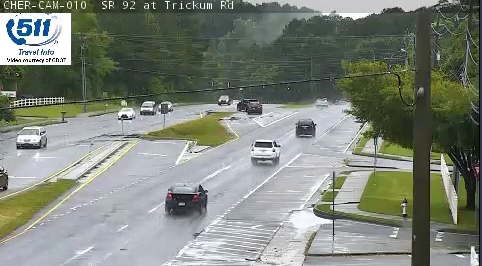car: (165, 183, 207, 209), (250, 140, 280, 160), (295, 119, 315, 137)
